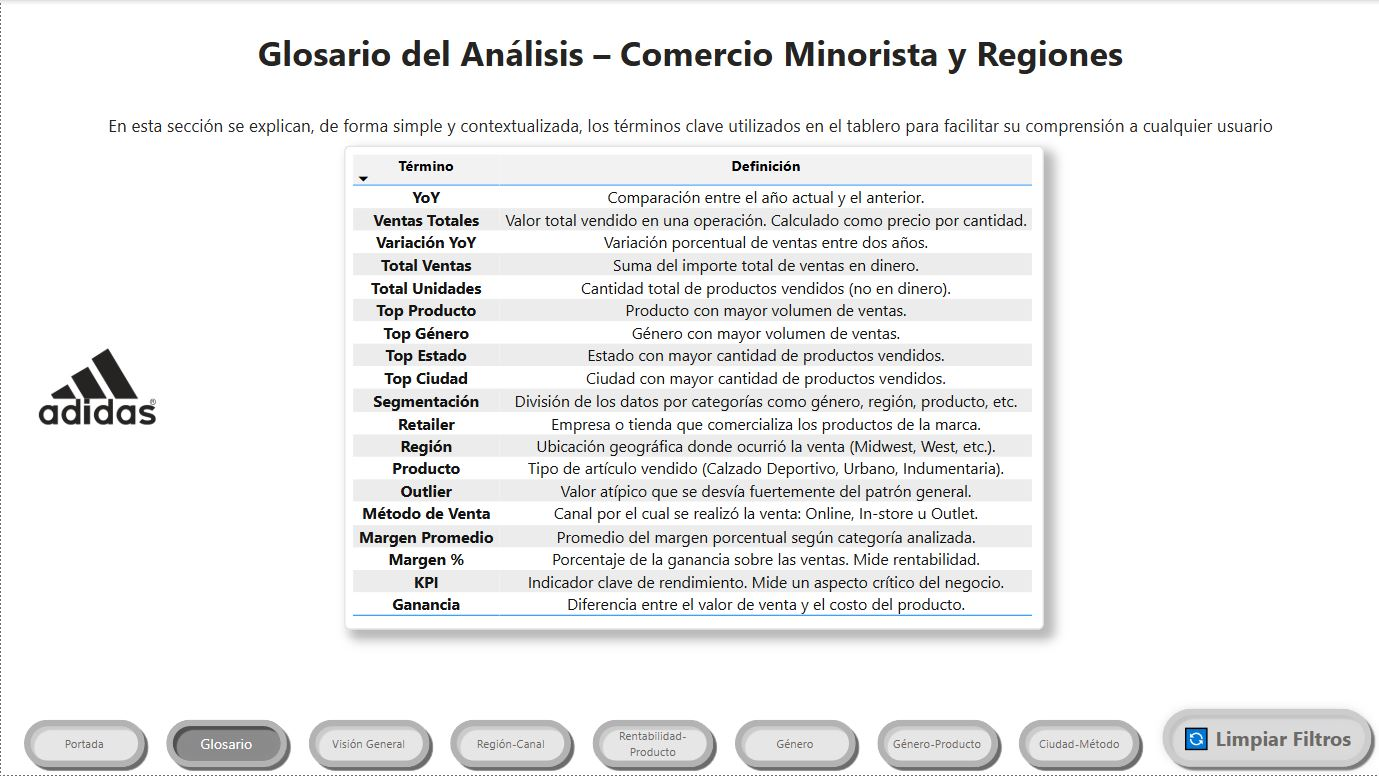

Layout of this report page (visuals, bound fields, positions):
{"tool":"powerbi","page":{"name":"Glosario","canvas":[1280,720],"ordinal":1},"visuals":[{"type":"textbox","box":[89.2,21.5,1102.3,109.7],"z":0},{"type":"pivotTable","fields":{"Rows":["Glosario.Término"],"Values":["Min(Glosario.Definición)"]},"box":[318.9,135.3,649.1,449.1],"z":1000},{"type":"actionButton","box":[1070,650,210,70],"z":2000},{"type":"image","box":[29.7,305.6,118.9,107.7],"z":3000},{"type":"pageNavigator","box":[13.8,660,1056.2,60],"z":4000}]}

Visuals, with their boxes in screenshot pixels (x1, y1, x2, y2), scaled from the page's 1280x720 canvas onto the 1379x776 screenshot:
textbox: locate(96, 23, 1284, 141)
pivotTable - Glosario.Término x Min(Glosario.Definición): locate(344, 146, 1043, 630)
actionButton: locate(1153, 701, 1378, 775)
image: locate(32, 329, 160, 445)
pageNavigator: locate(15, 711, 1153, 775)
